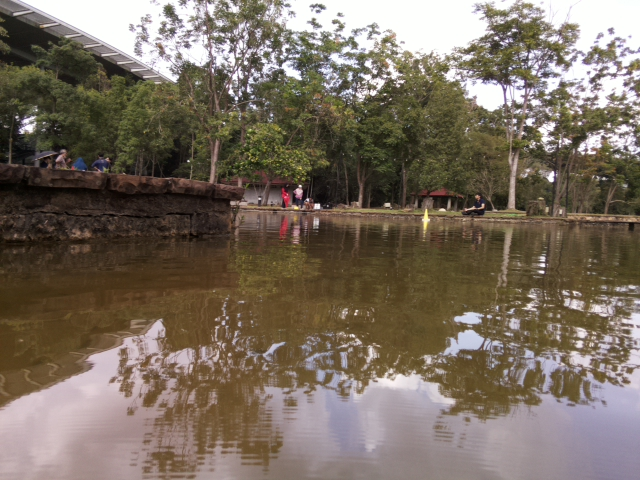checkpoint: (421, 207, 431, 223)
